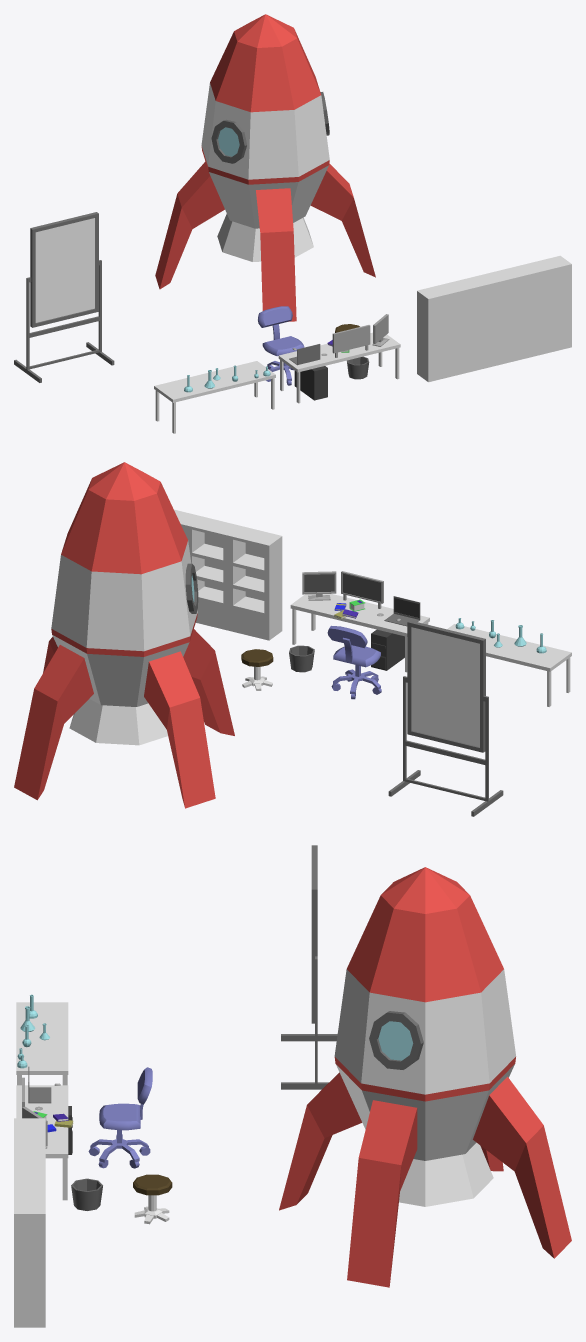
Rendered from Environmentassets.fbx.
3 views of the same model, one above another, from view 1: azimuth 30°, elevation 25°; view 2: azimuth 150°, elevation 25°; view 3: azimuth 270°, elevation 25° (orthographic). The views are drawn at different scales.
Parts seen in each view (by area): view 1: Rocket, Schrank, Whiteboard, Tisch, Tisch_2, Buerostuhl, PC, Monitor_gross; view 2: Rocket, Whiteboard, Schrank, Tisch_2, Tisch, Buerostuhl, Monitor_gross, PC, Monitor_klein, Hocker, Laptop, Trashbin; view 3: Rocket, Schrank, Tisch, Buerostuhl, Whiteboard, Tisch_2, Hocker, Trashbin.
Boxes of the visible parts, bbox=[...] form: Rocket: bbox=[155, 14, 375, 321]; Schrank: bbox=[417, 255, 571, 382]; Whiteboard: bbox=[14, 212, 114, 382]; Tisch: bbox=[154, 361, 275, 433]; Tisch_2: bbox=[278, 332, 400, 403]; Buerostuhl: bbox=[258, 306, 304, 385]; PC: bbox=[294, 366, 327, 400]; Monitor_gross: bbox=[332, 325, 370, 357]; Rocket: bbox=[14, 462, 234, 808]; Whiteboard: bbox=[388, 620, 503, 816]; Schrank: bbox=[174, 509, 282, 640]; Tisch_2: bbox=[290, 594, 429, 672]; Tisch: bbox=[447, 624, 571, 706]; Buerostuhl: bbox=[327, 625, 381, 699]; Monitor_gross: bbox=[341, 571, 383, 608]; PC: bbox=[371, 629, 404, 670]; Monitor_klein: bbox=[302, 571, 336, 600]; Hocker: bbox=[241, 649, 273, 690]; Laptop: bbox=[384, 596, 420, 626]; Trashbin: bbox=[289, 645, 314, 672]; Rocket: bbox=[279, 867, 571, 1287]; Schrank: bbox=[14, 1118, 45, 1327]; Tisch: bbox=[16, 1002, 68, 1085]; Buerostuhl: bbox=[88, 1067, 152, 1168]; Whiteboard: bbox=[281, 845, 337, 1089]; Tisch_2: bbox=[16, 1085, 68, 1200]; Hocker: bbox=[133, 1174, 172, 1224]; Trashbin: bbox=[71, 1178, 102, 1210].
Bounding box in the file's own units: 20980 × 12170 × 17070.
